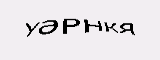К: (103, 20, 119, 34)
Н: (84, 18, 102, 34)
Р: (62, 17, 80, 35)
У: (22, 21, 40, 38)
Я: (117, 21, 135, 37)
Ә: (38, 19, 59, 36)
